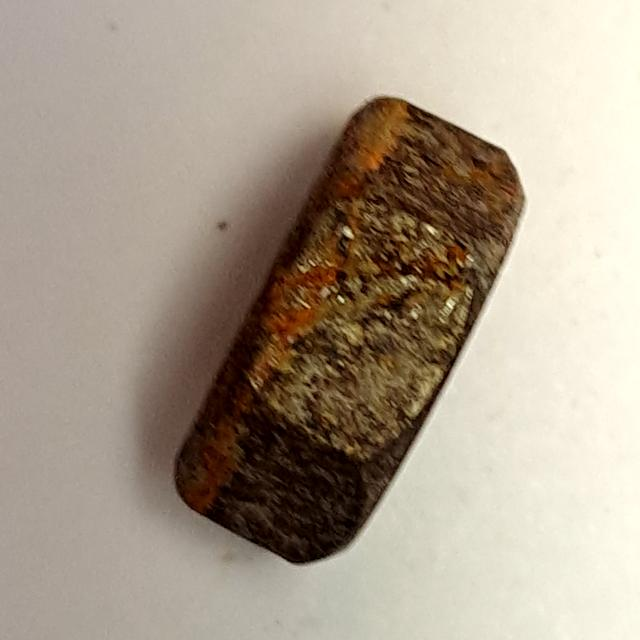Rust: (154, 81, 539, 589)
